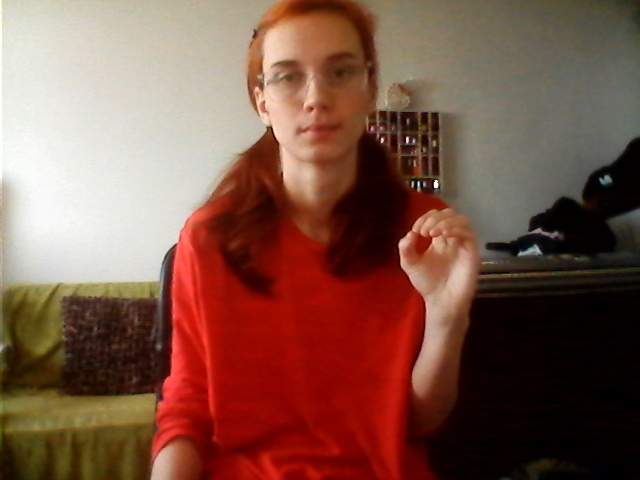o: (385, 199, 494, 317)
